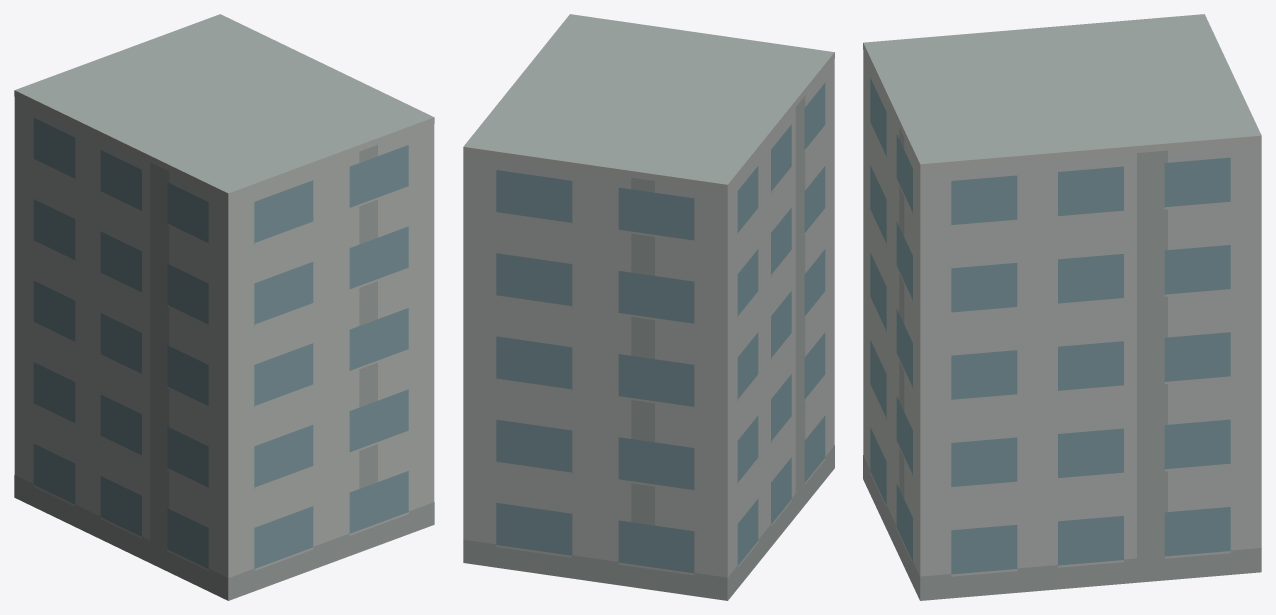
Rendered from residential-921054bf-6fbb-4b18-8f7a-f596fe72676c.glb.
3 views of the same model, side by side, from view 1: azimuth 30°, elevation 25°; view 2: azimuth 150°, elevation 25°; view 3: azimuth 270°, elevation 25° (orthographic). The views are drawn at different scales.
Parts seen in each view (by area): view 1: residential-921054bf-6fbb-4b18-8f7a-f596fe72676c.tmp; view 2: residential-921054bf-6fbb-4b18-8f7a-f596fe72676c.tmp; view 3: residential-921054bf-6fbb-4b18-8f7a-f596fe72676c.tmp.
Boxes of the visible parts, <box> form: residential-921054bf-6fbb-4b18-8f7a-f596fe72676c.tmp: <box>14,14,434,600</box>; residential-921054bf-6fbb-4b18-8f7a-f596fe72676c.tmp: <box>463,14,834,600</box>; residential-921054bf-6fbb-4b18-8f7a-f596fe72676c.tmp: <box>863,14,1261,600</box>.
Bounding box in the file's own units: 11.26 × 15.25 × 12.62.
